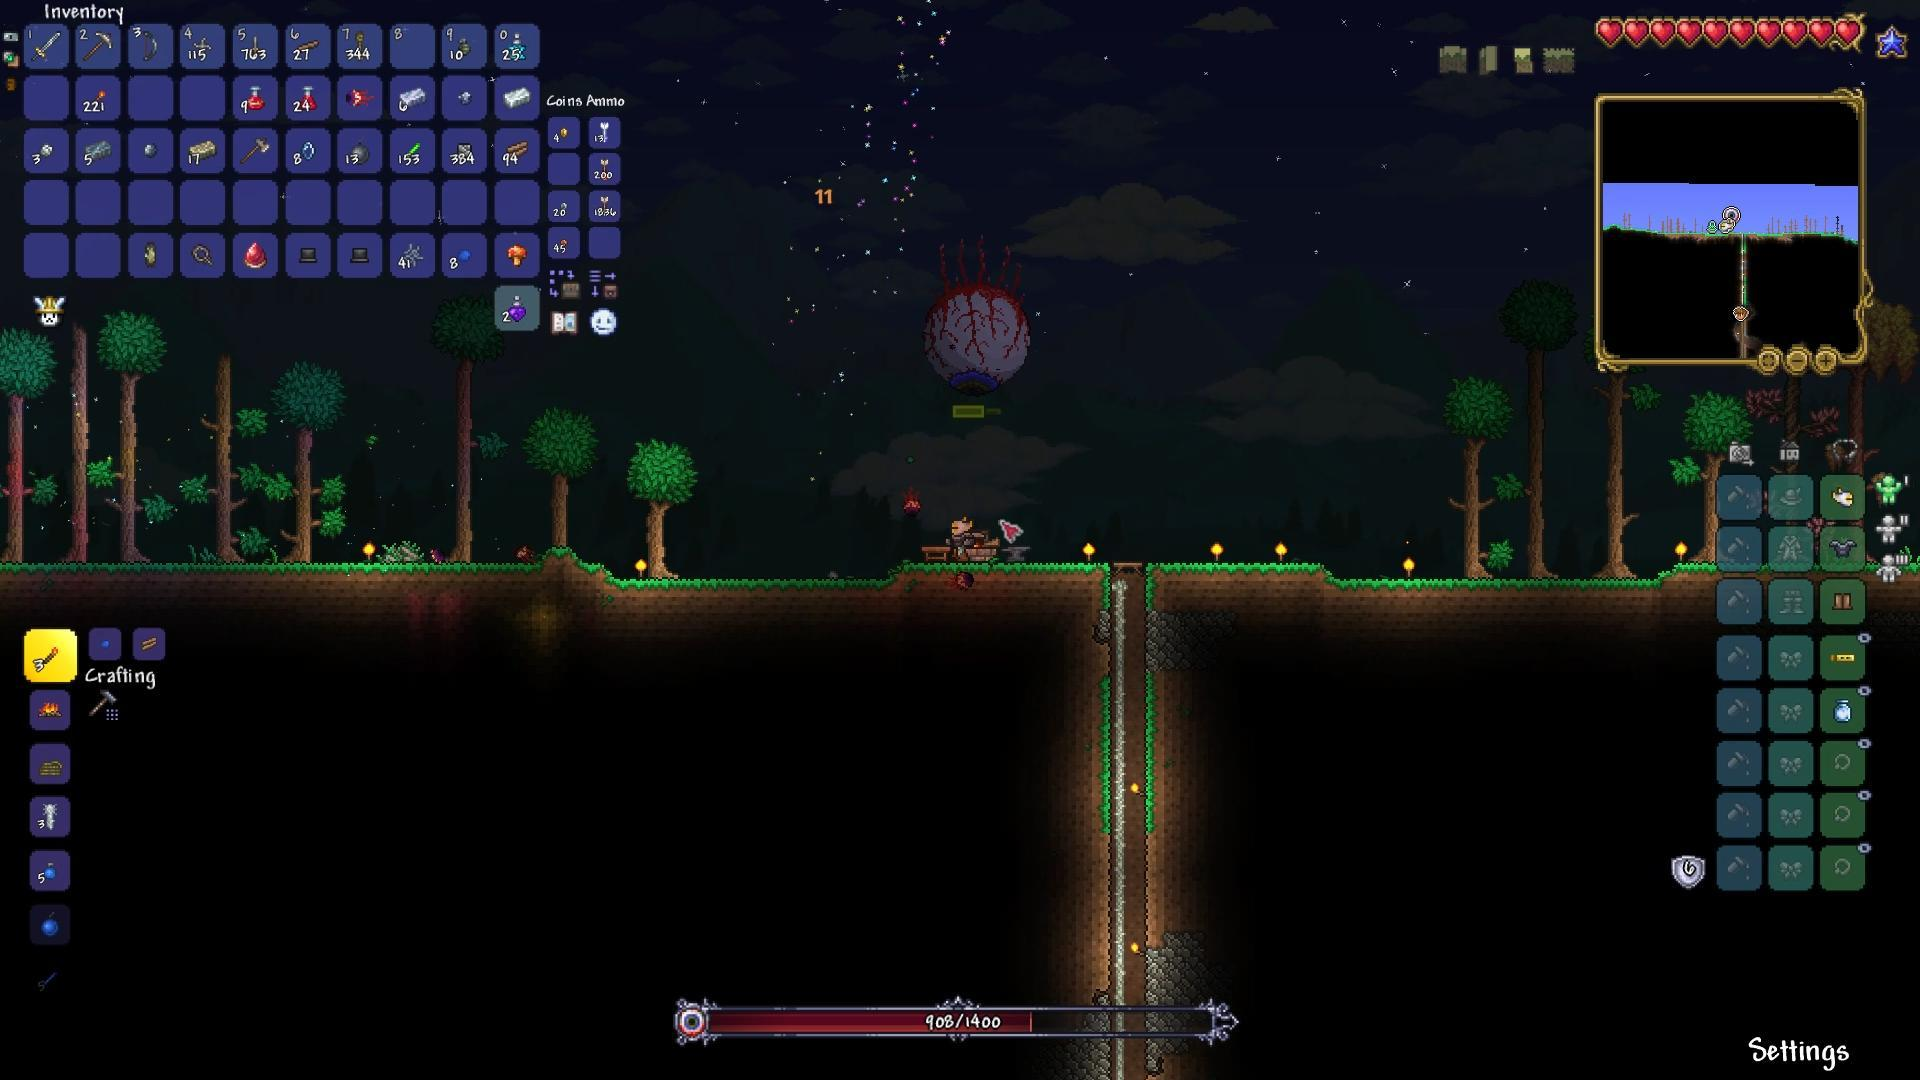eyeC: (918, 240, 1039, 396)
glowstick: (396, 136, 425, 169)
